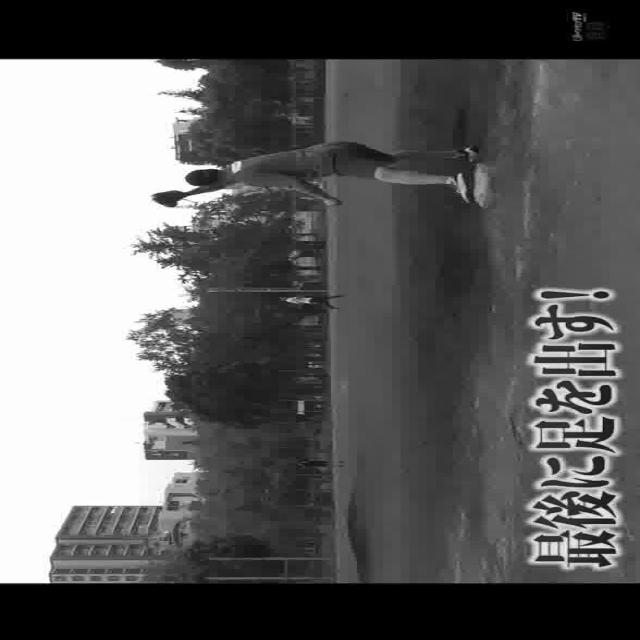base: (476, 162, 494, 210)
baseball_glove: (148, 190, 192, 208)
shoe: (450, 171, 472, 204), (452, 146, 476, 163)
